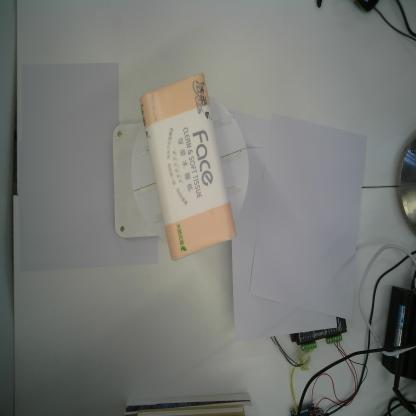Tissue: (141, 71, 237, 261)
